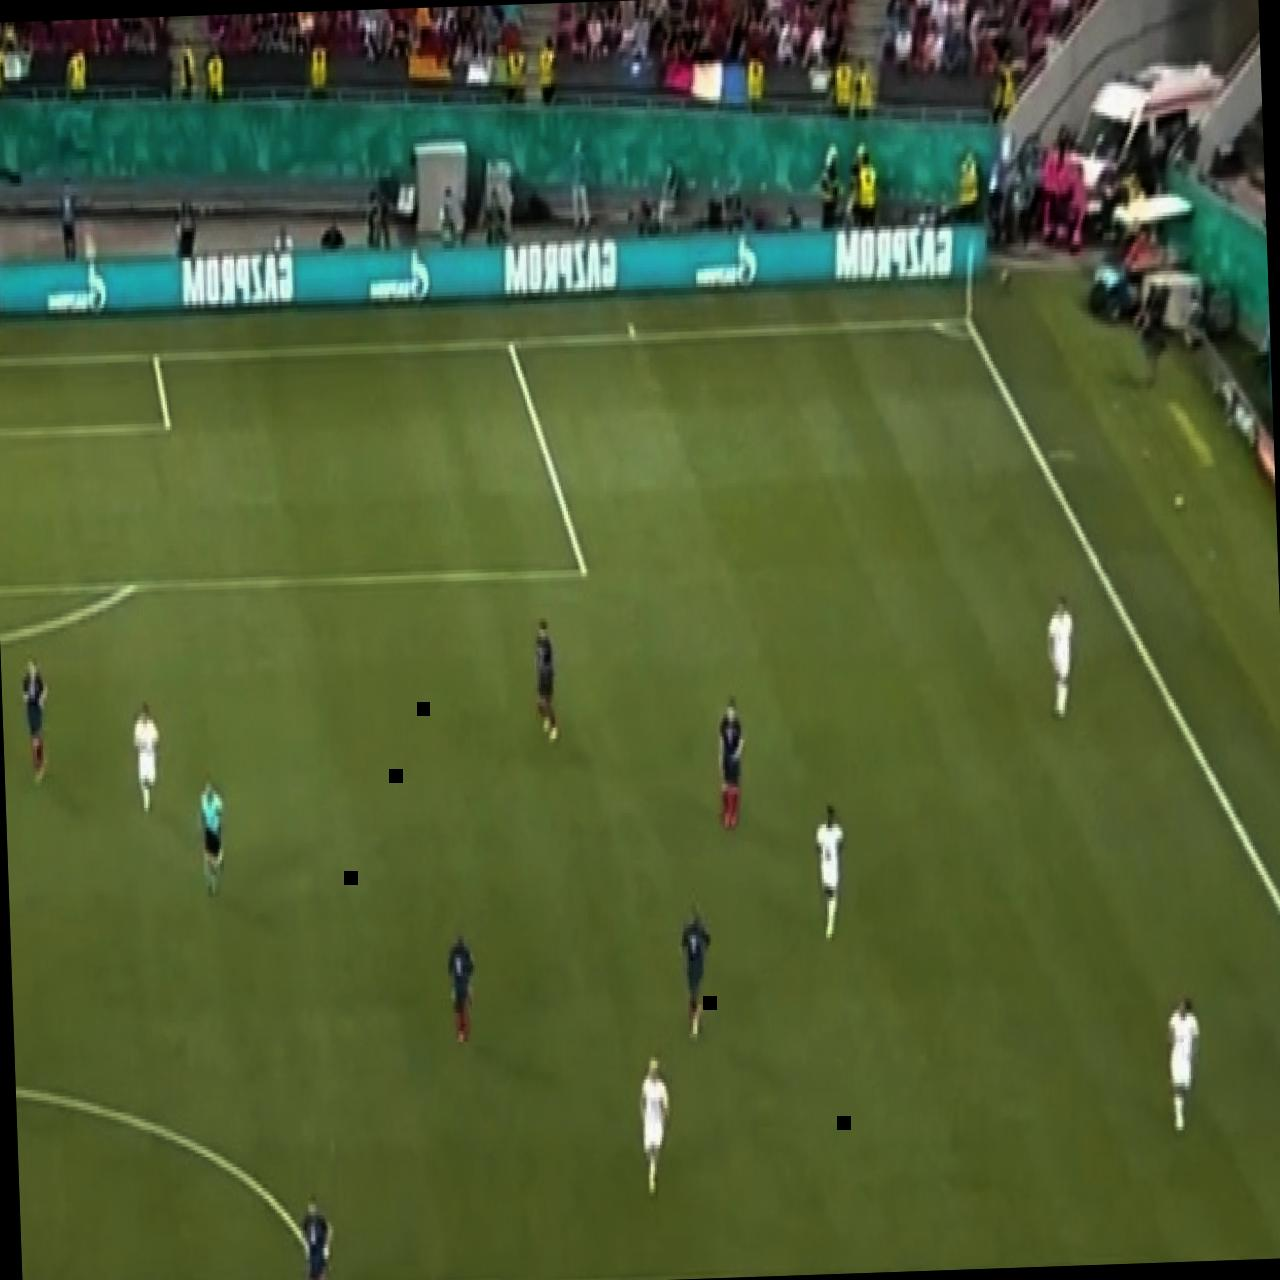football: (804, 791, 856, 946), (1160, 985, 1210, 1139), (631, 1051, 677, 1202), (14, 649, 58, 792), (674, 899, 718, 1039), (193, 768, 234, 918), (712, 692, 754, 836), (1042, 584, 1084, 720), (126, 694, 168, 826), (440, 924, 481, 1056), (528, 610, 561, 747), (296, 1181, 341, 1280)
